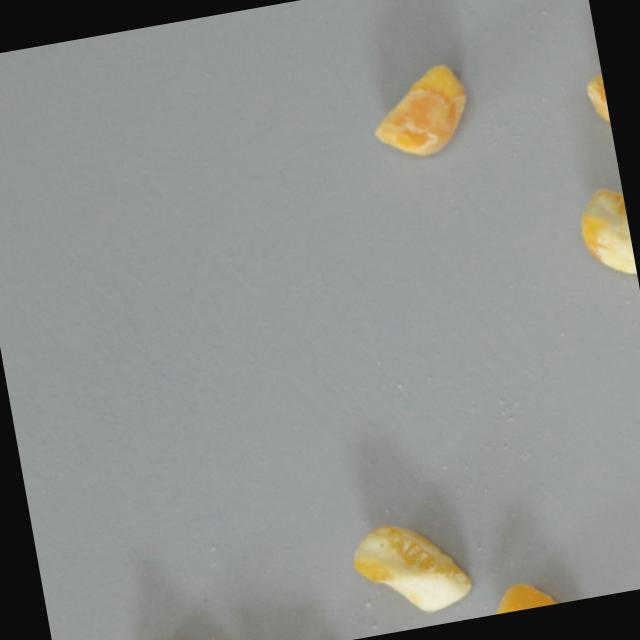dañado: (356, 55, 479, 167), (570, 182, 638, 289), (473, 567, 592, 617), (575, 48, 612, 139), (129, 622, 236, 640)
punto_negro: (344, 508, 478, 627)
